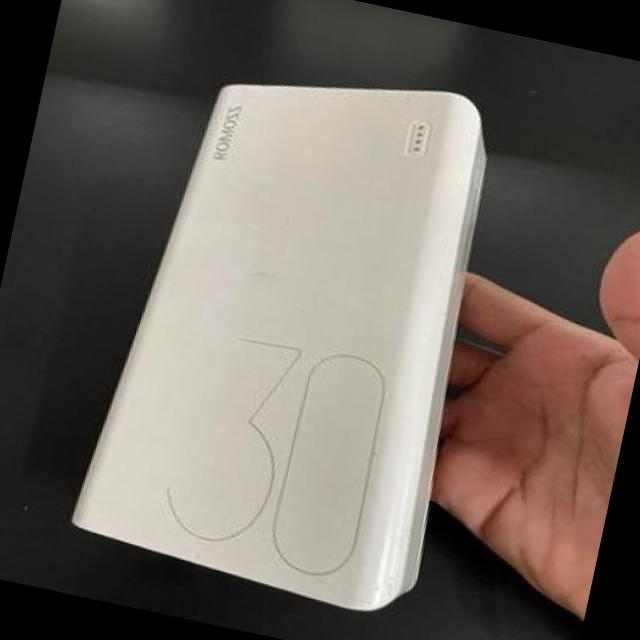portable-charger: (52, 16, 532, 627)
